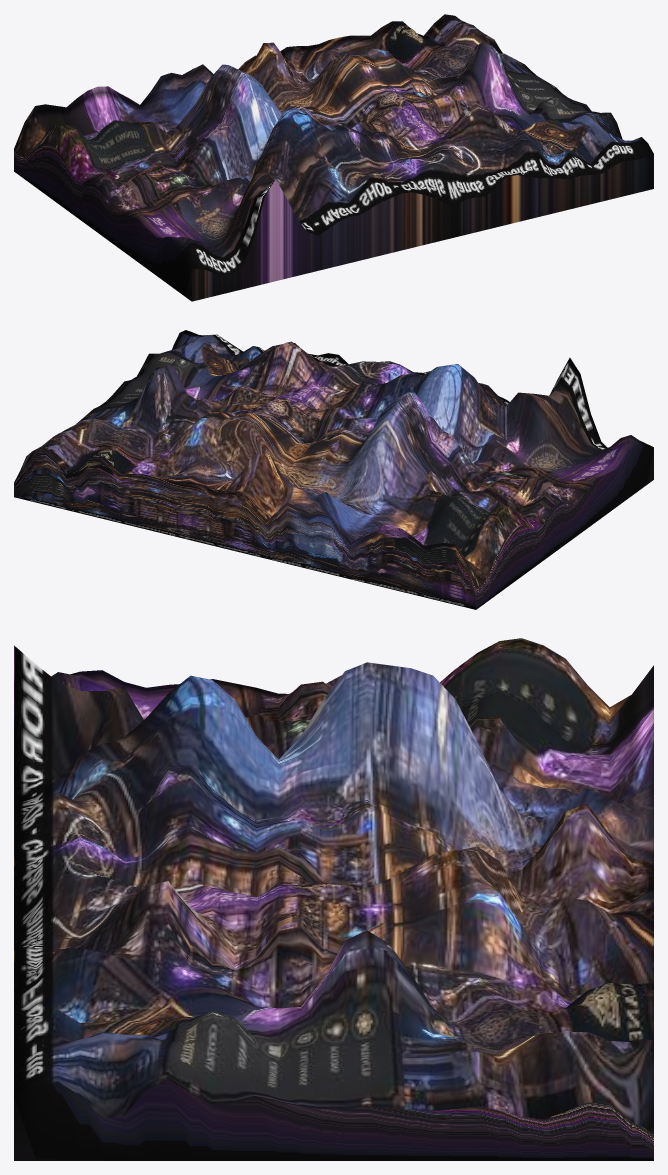
The model's file is SPECIAL_INT_07_Magic_Shop.glb.
The picture shows the model from 3 angles, top to bottom: view 1: azimuth 30°, elevation 25°; view 2: azimuth 150°, elevation 25°; view 3: azimuth 270°, elevation 25°; orthographic projection. The views are drawn at different scales.
Visible parts, largest first — view 1: SPECIAL_INT_07_Magic_Shop; view 2: SPECIAL_INT_07_Magic_Shop; view 3: SPECIAL_INT_07_Magic_Shop.
Boxes of the visible parts, x1=… form: SPECIAL_INT_07_Magic_Shop: x1=14, y1=14, x2=653, y2=301; SPECIAL_INT_07_Magic_Shop: x1=14, y1=330, x2=653, y2=609; SPECIAL_INT_07_Magic_Shop: x1=14, y1=638, x2=653, y2=1160.
Size of the model in its own units: 2 by 0.51 by 1.33.
1 material, 1 textured.
